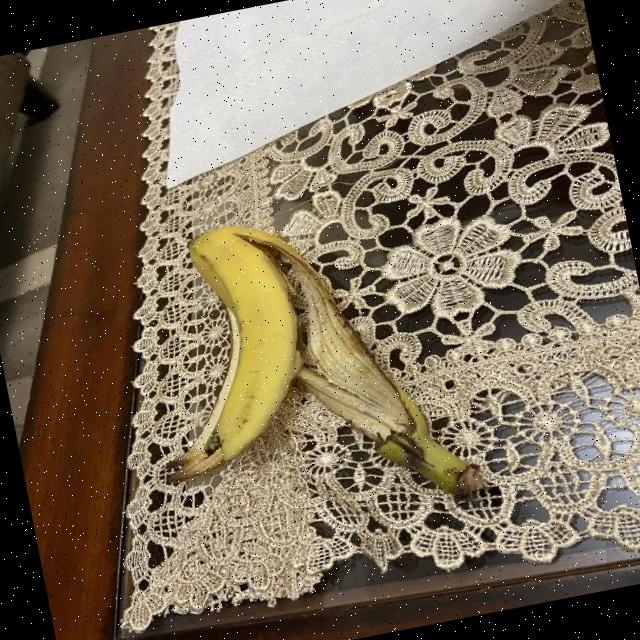banana-peel: (121, 184, 487, 553), (120, 215, 325, 485)
